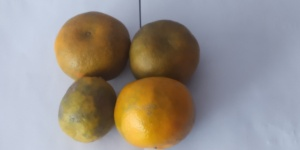BAD: (115, 77, 195, 147), (57, 9, 131, 83), (132, 19, 199, 87), (59, 75, 118, 143)
